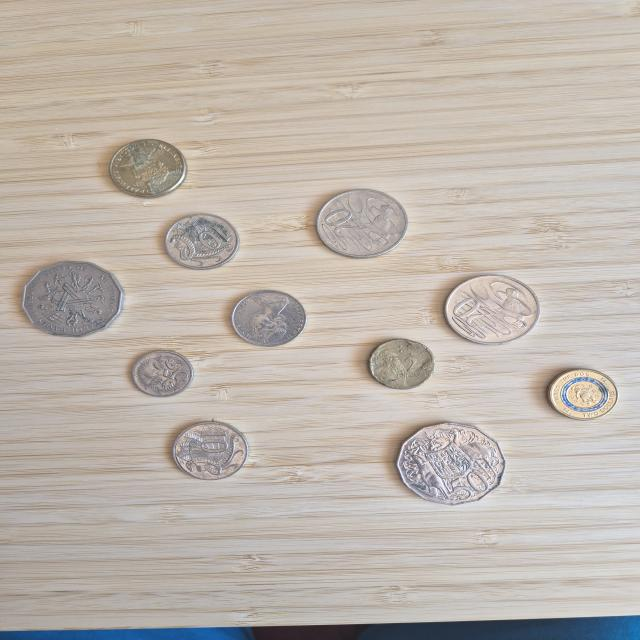1-dollar: (95, 136, 191, 201)
10-cents: (161, 420, 253, 484), (225, 289, 308, 352), (159, 214, 243, 273)
2-dollar: (534, 368, 621, 423), (366, 338, 436, 392)
20-cents: (442, 274, 541, 347), (311, 188, 409, 261)
5-cents: (125, 348, 199, 401)
50-cents: (18, 260, 128, 341)
